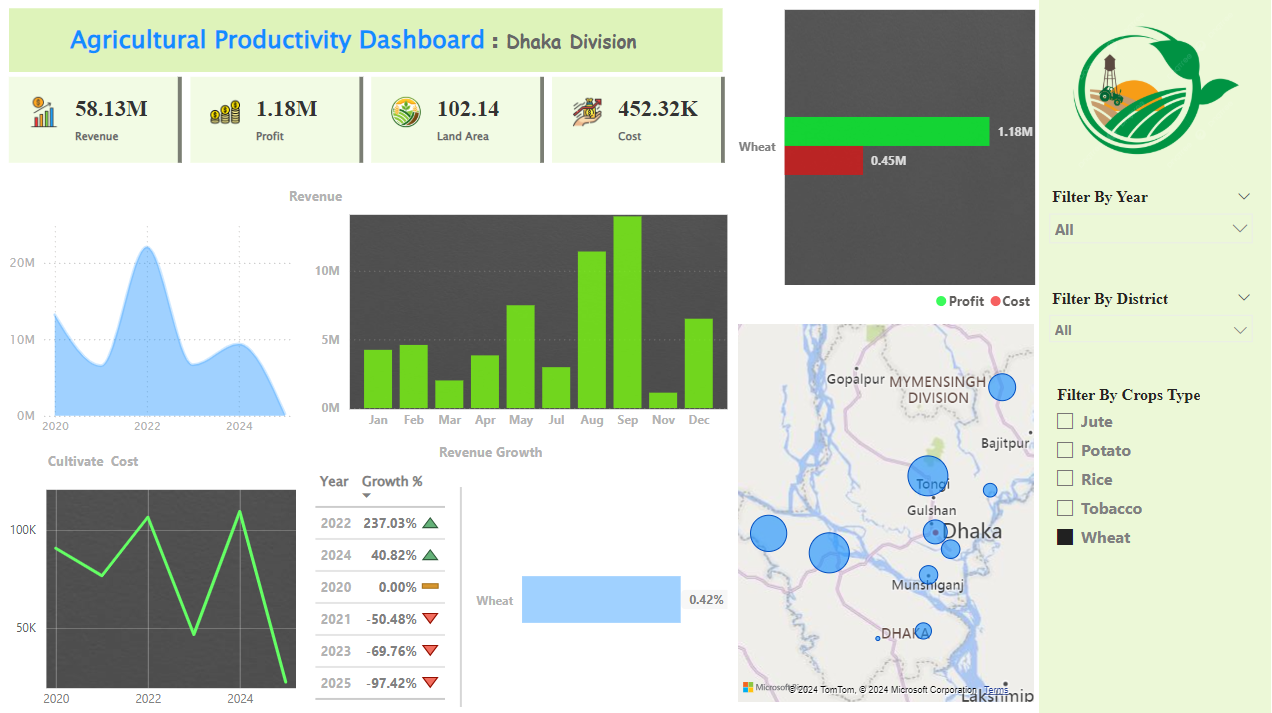

The page's visual inventory and layout, read from the dashboard file:
{"tool":"powerbi","page":{"name":"Page 1","canvas":[1280,720],"ordinal":0},"visuals":[{"type":"cardVisual","fields":{"Data":["Sheet1.Revenue","Sheet1.Total Profit","Sheet1.Total Land Area","Sheet1.Total Cost"]},"box":[10,75,728.8,96.2],"z":0},{"type":"lineChart","fields":{"Y":["Sheet1.Revenue"],"Category":["Calendar.Date.Variation.Date Hierarchy.Year"]},"box":[10,213.8,300,236.2],"z":1000},{"type":"shape","box":[1045,0,233.3,720],"z":2000},{"type":"slicer","fields":{"Values":["Sheet1.Cultivate Area"]},"box":[1044.9,287.4,223.9,72.1],"z":3000},{"type":"slicer","fields":{"Values":["Calendar.Year"]},"box":[1044.9,186.6,223.9,93.3],"z":4000},{"type":"slicer","fields":{"Values":["Sheet1.Crops Type"]},"box":[1049.9,383.1,214,195.3],"z":5000},{"type":"image","box":[1044.9,0,233.9,186.6],"z":6000},{"type":"lineChart","fields":{"Y":["Sheet1.Total Cost"],"Category":["Calendar.Date.Variation.Date Hierarchy.Year"]},"box":[10,480,300,240],"z":7000},{"type":"columnChart","title":"Revenue by Month","fields":{"Y":["Sheet1.Revenue"],"Category":["Calendar.Month"]},"box":[315,205,423.8,236.2],"z":8000},{"type":"tableEx","fields":{"Values":["Calendar.Date.Variation.Date Hierarchy.Year","Sheet1.Revenue Growth"]},"box":[315,463.8,152.5,246.2],"z":9000},{"type":"barChart","fields":{"Category":["Sheet1.Crops Type"],"Y":["Sheet1.Revenue Growth"]},"box":[476.2,480,262.5,240],"z":10000},{"type":"textbox","box":[48.5,450.3,160.5,29.9],"z":11000},{"type":"textbox","box":[290,185,76.2,40],"z":12000},{"type":"shape","box":[415,490,103.8,220],"z":13000},{"type":"textbox","box":[440.4,441.6,130.6,38.6],"z":14000},{"type":"shape","box":[15,11.2,713.8,63.8],"z":15000},{"type":"textbox","box":[71.2,20,631.2,55],"z":16000},{"type":"map","fields":{"Category":["Sheet1.District"],"Size":["Sheet1.Revenue"]},"box":[738.6,322.9,305.7,387.1],"z":17000},{"type":"clusteredBarChart","fields":{"Category":["Sheet1.Crops Type"],"Y":["Sheet1.Total Profit","Sheet1.Total Cost"]},"box":[738.6,0,307.1,322.9],"z":17001}]}

Visuals, with their boxes in screenshot pixels (x1, y1, x2, y2), scaled from the page's 1280x720 canvas onto the 1272x713 screenshot:
cardVisual - Sheet1.Revenue x Sheet1.Total Profit: 10,74,734,170
lineChart - Sheet1.Revenue x Calendar.Date.Variation.Date Hierarchy.Year: 10,212,308,446
shape: 1038,0,1270,712
slicer - Sheet1.Cultivate Area: 1038,285,1261,356
slicer - Calendar.Year: 1038,185,1261,277
slicer - Sheet1.Crops Type: 1043,379,1256,573
image: 1038,0,1271,185
lineChart - Sheet1.Total Cost x Calendar.Date.Variation.Date Hierarchy.Year: 10,475,308,712
"Revenue by Month" columnChart: 313,203,734,437
tableEx - Calendar.Date.Variation.Date Hierarchy.Year x Sheet1.Revenue Growth: 313,459,465,703
barChart - Sheet1.Crops Type x Sheet1.Revenue Growth: 473,475,734,712
textbox: 48,446,208,476
textbox: 288,183,364,223
shape: 412,485,516,703
textbox: 438,437,567,476
shape: 15,11,724,74
textbox: 71,20,698,74
map - Sheet1.District x Sheet1.Revenue: 734,320,1038,703
clusteredBarChart - Sheet1.Crops Type x Sheet1.Total Profit: 734,0,1039,320
